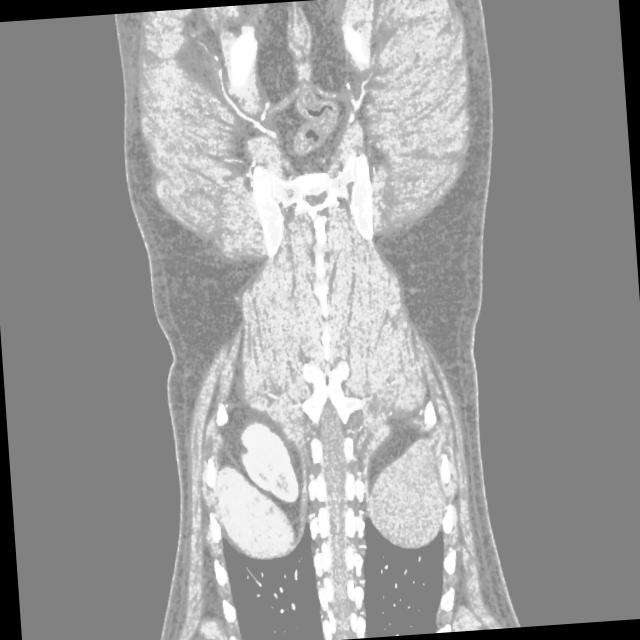NORMAL: (91, 228, 516, 599)
